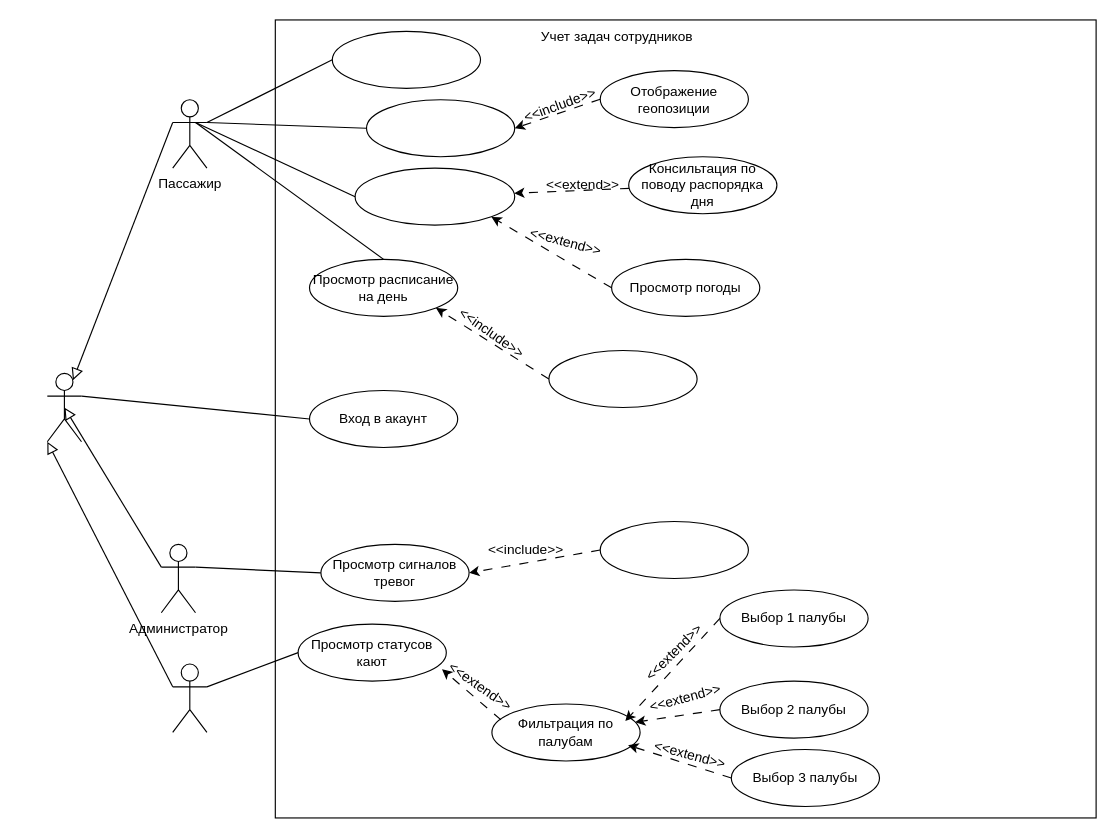
Some shapes in this 1116 by 838 pixel diagram are drawn without their labels. The shapes that lost their labels are listed below. From the top down, each one's centre as x and y in pixels, then its label:
At point 406,59: "Просмотр карточек с городами".
At point 440,128: "Отображение навигации по маршруту".
At point 434,196: "Обращение к личному ИИ ассистенту".
At point 622,378: "Отображение мероприятия в данный момент".
At point 64,407: "Пользователь".
At point 673,549: "Оповещение звуковым сигналом".
At point 189,697: "Горничная".
